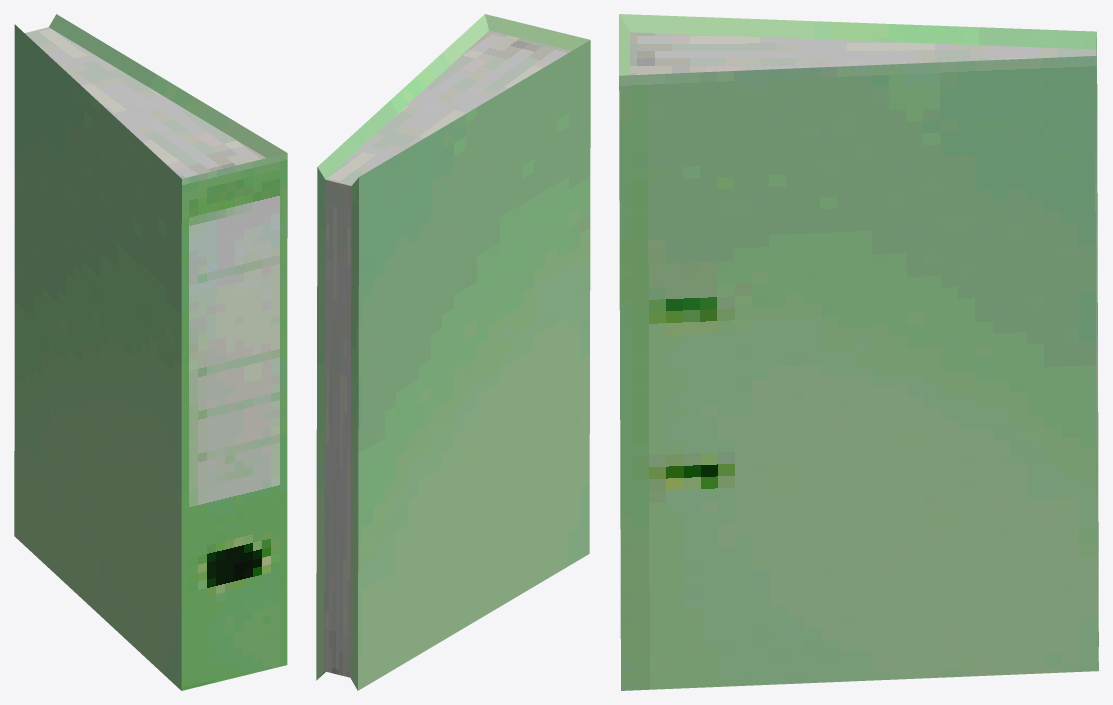
Rendered from file_binder_alt2.glb.
3 views of the same model, side by side, from view 1: azimuth 30°, elevation 25°; view 2: azimuth 150°, elevation 25°; view 3: azimuth 270°, elevation 25° (orthographic). The views are drawn at different scales.
Parts seen in each view (by area): view 1: file_binder_alt2; view 2: file_binder_alt2; view 3: file_binder_alt2.
Part boxes in pixels (x1,y1,x2,y2): file_binder_alt2: [14, 14, 287, 690]; file_binder_alt2: [316, 14, 590, 690]; file_binder_alt2: [619, 14, 1098, 690].
Bounding box in the file's own units: 0.0915 × 0.4233 × 0.2987.
Materials: 1 (1 with a texture image).
